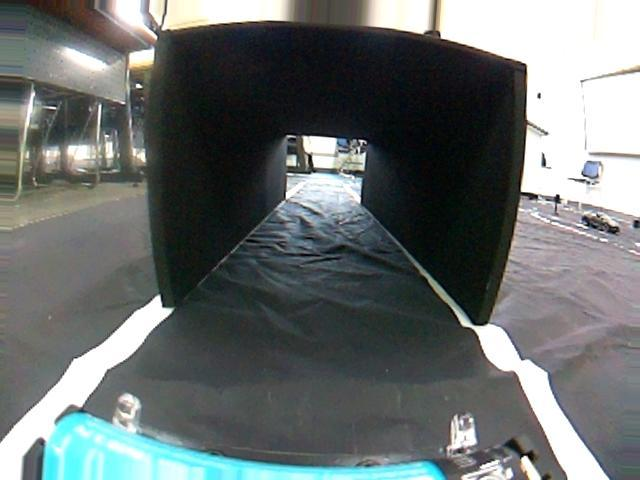straight: (5, 206, 627, 479)
